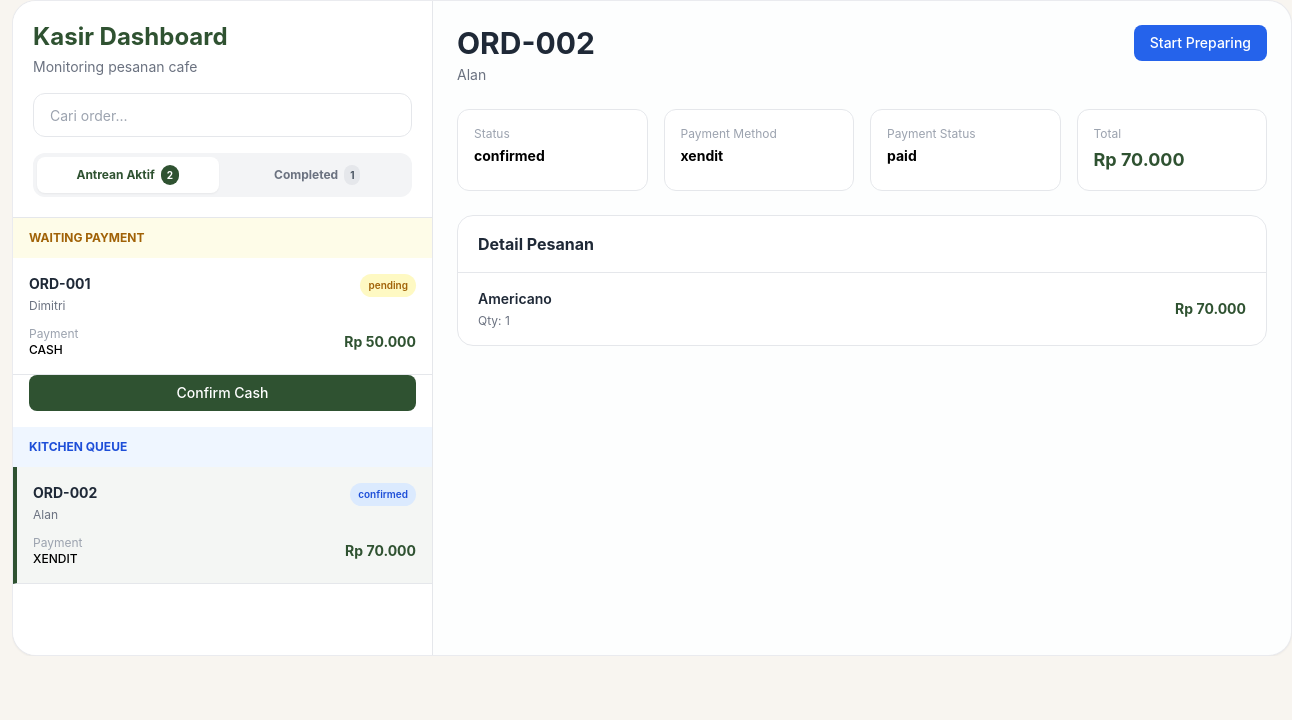
Kasir Page › menampilkan notes order
Step 1. Click the text "ORD-001" → (60, 284), box x1=29 y1=274 x2=91 y2=294
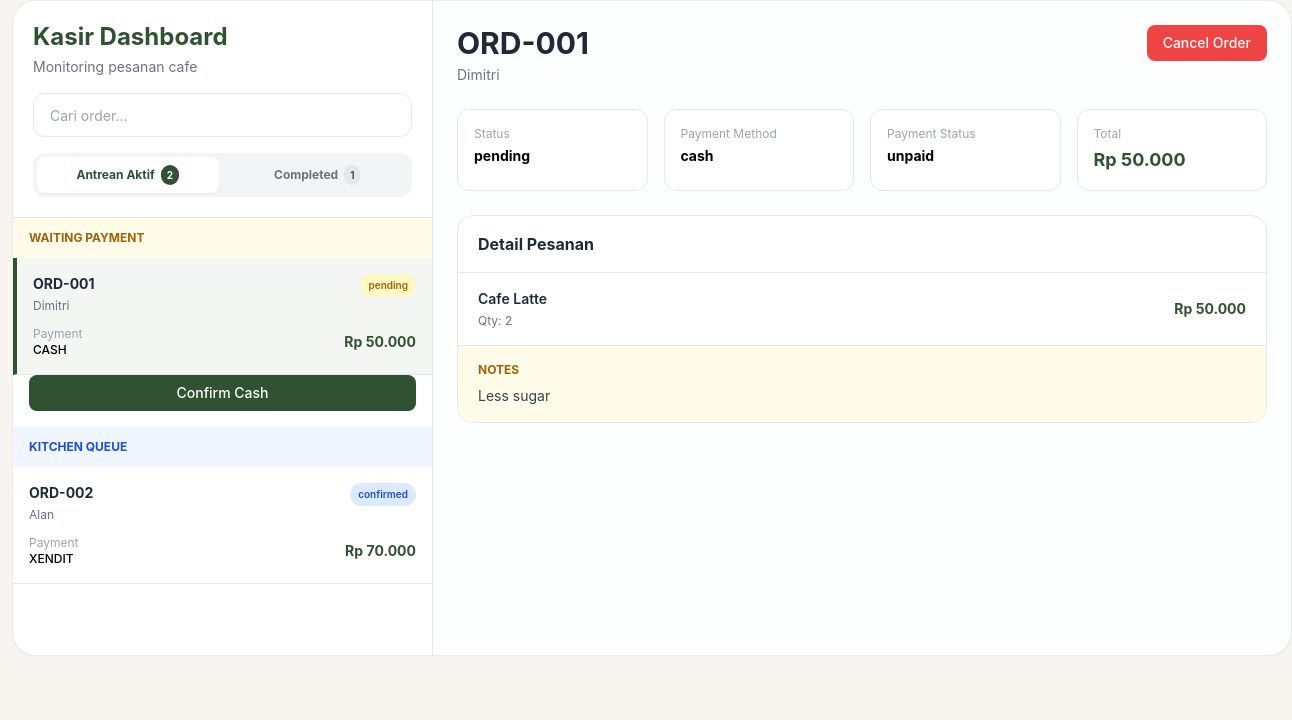
Now the text "Less sugar" is shown, box x1=478 y1=387 x2=550 y2=404
